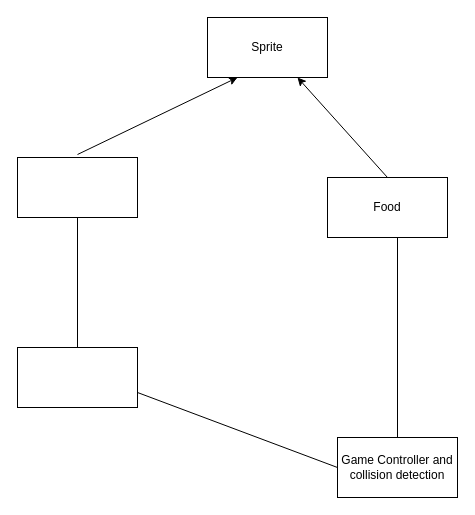
This 475x515 diagram has some shape labels left out. Each missing label, with the centre of its shape:
"Snack bunch of snack cells and the methods that rule them together" belongs at [77,377].
"Snack cell" belongs at [77,187].
